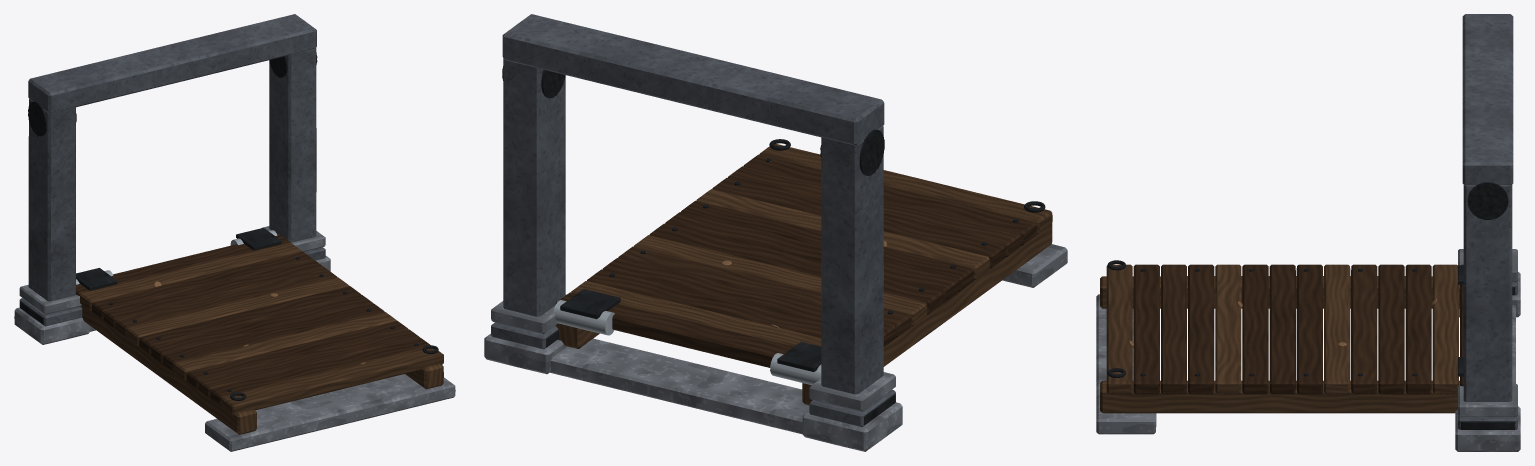
3 views of the same model, side by side, from view 1: azimuth 30°, elevation 25°; view 2: azimuth 150°, elevation 25°; view 3: azimuth 270°, elevation 25° (orthographic). The views are drawn at different scales.
Parts seen in each view (by area): view 1: granite-ashlar, quarter-sawn-timber, exposed-end-grain, tooled-granite-edges, forged-iron-strapwork (×2); view 2: granite-ashlar, quarter-sawn-timber, tooled-granite-edges, exposed-end-grain, forged-iron-strapwork (×2), machined-bearing-steel; view 3: quarter-sawn-timber, exposed-end-grain, granite-ashlar, tooled-granite-edges, forged-iron-strapwork (×2).
Part boxes in pixels (x1,y1,x2,y2): granite-ashlar: (19, 14, 325, 326); quarter-sawn-timber: (76, 234, 430, 406); exposed-end-grain: (80, 242, 443, 434); tooled-granite-edges: (14, 226, 455, 451); forged-iron-strapwork (×2): (19, 52, 438, 400); granite-ashlar: (491, 14, 895, 426); quarter-sawn-timber: (555, 154, 1036, 367); tooled-granite-edges: (484, 244, 1067, 451); exposed-end-grain: (555, 144, 1052, 405); forged-iron-strapwork (×2): (502, 66, 1045, 425); machined-bearing-steel: (553, 300, 821, 385); quarter-sawn-timber: (1133, 264, 1463, 394); exposed-end-grain: (1100, 264, 1459, 413); granite-ashlar: (1458, 14, 1517, 429); tooled-granite-edges: (1096, 249, 1520, 451); forged-iron-strapwork (×2): (1107, 182, 1515, 429).
Bounding box in the file's own units: 2.05 × 1.67 × 2.26.
Materials: 8 (6 with a texture image).
